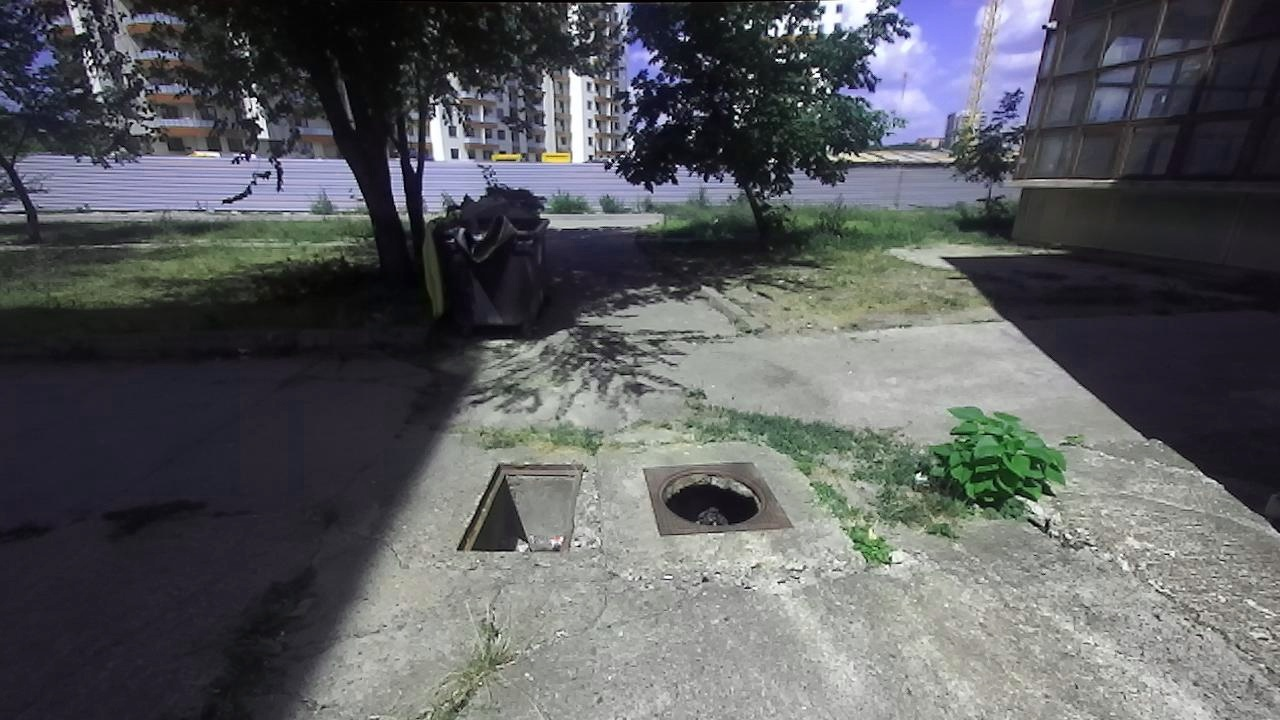drain: (455, 455, 589, 560), (655, 466, 770, 530)
